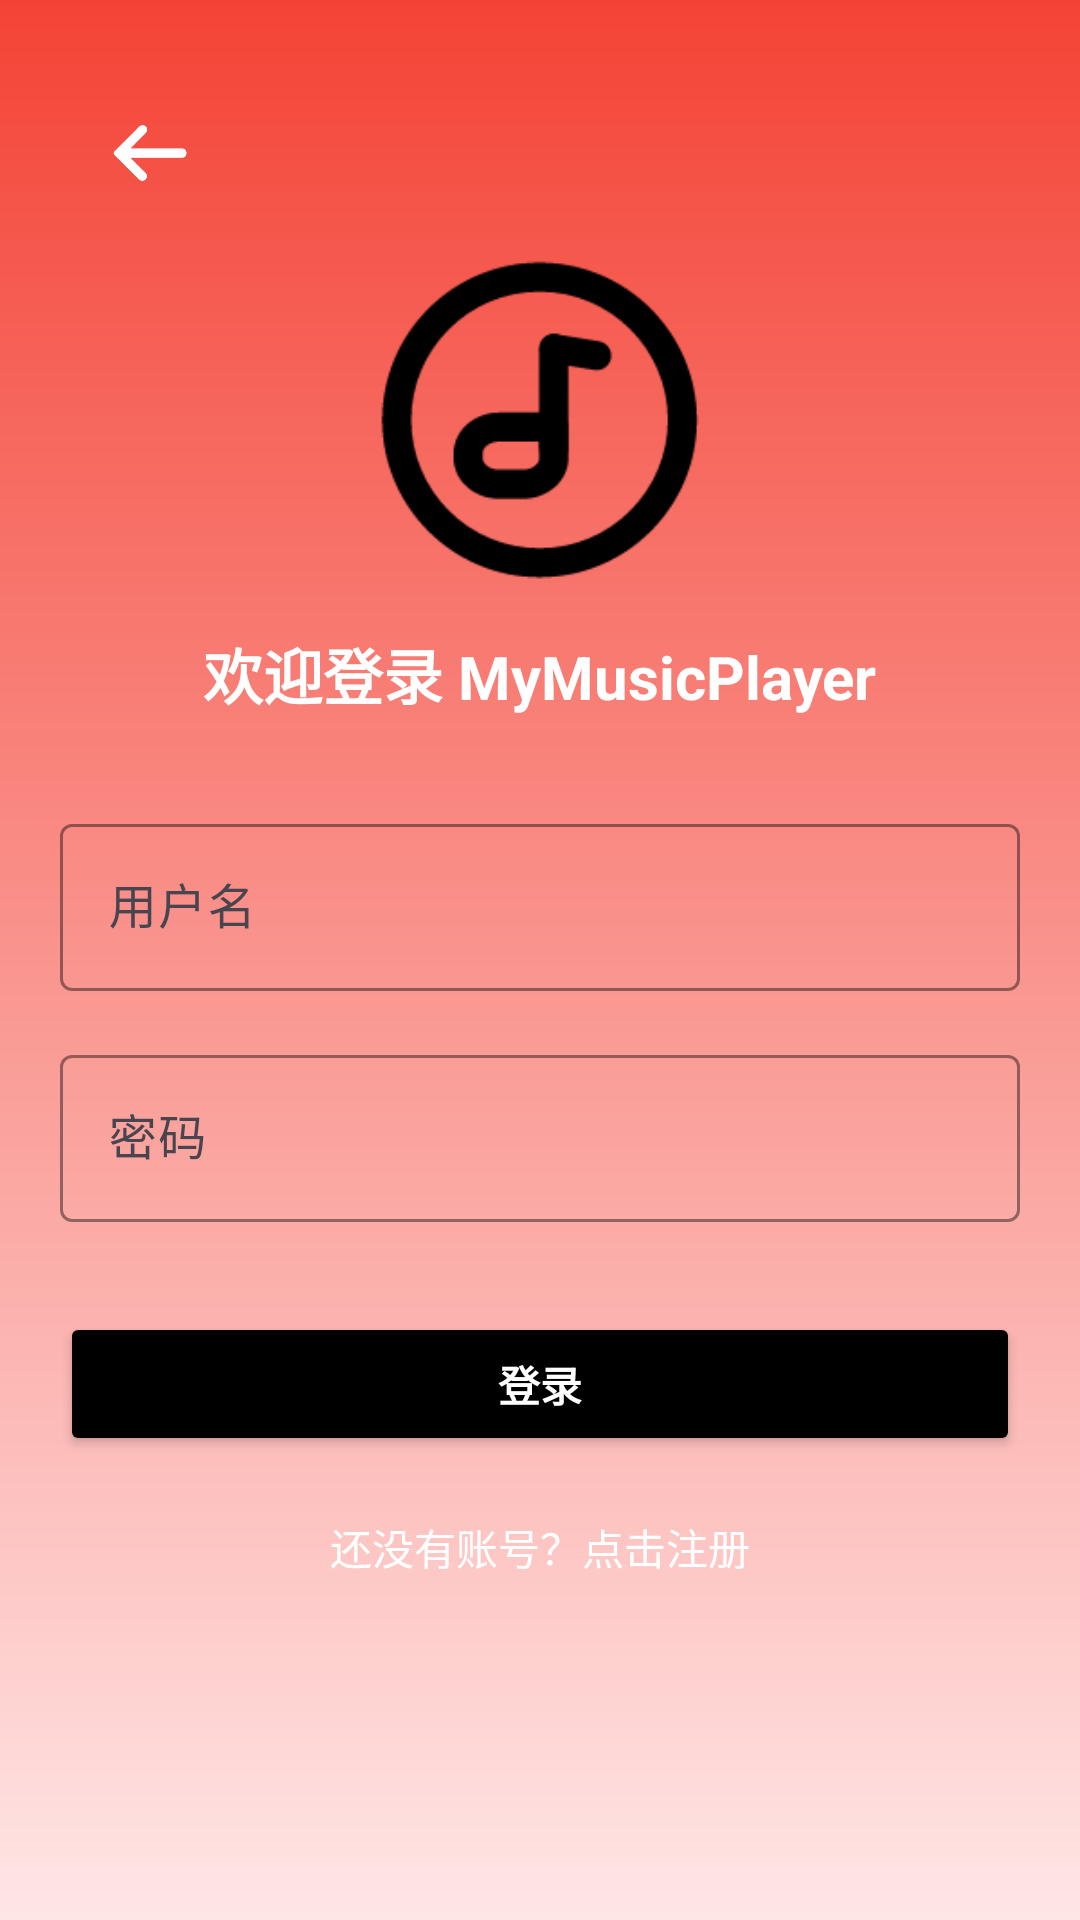

Icons on this 1080w x 1920h Android screen, each with its box as region(x1, y1, x2, y2):
back: region(113, 125, 187, 181)
